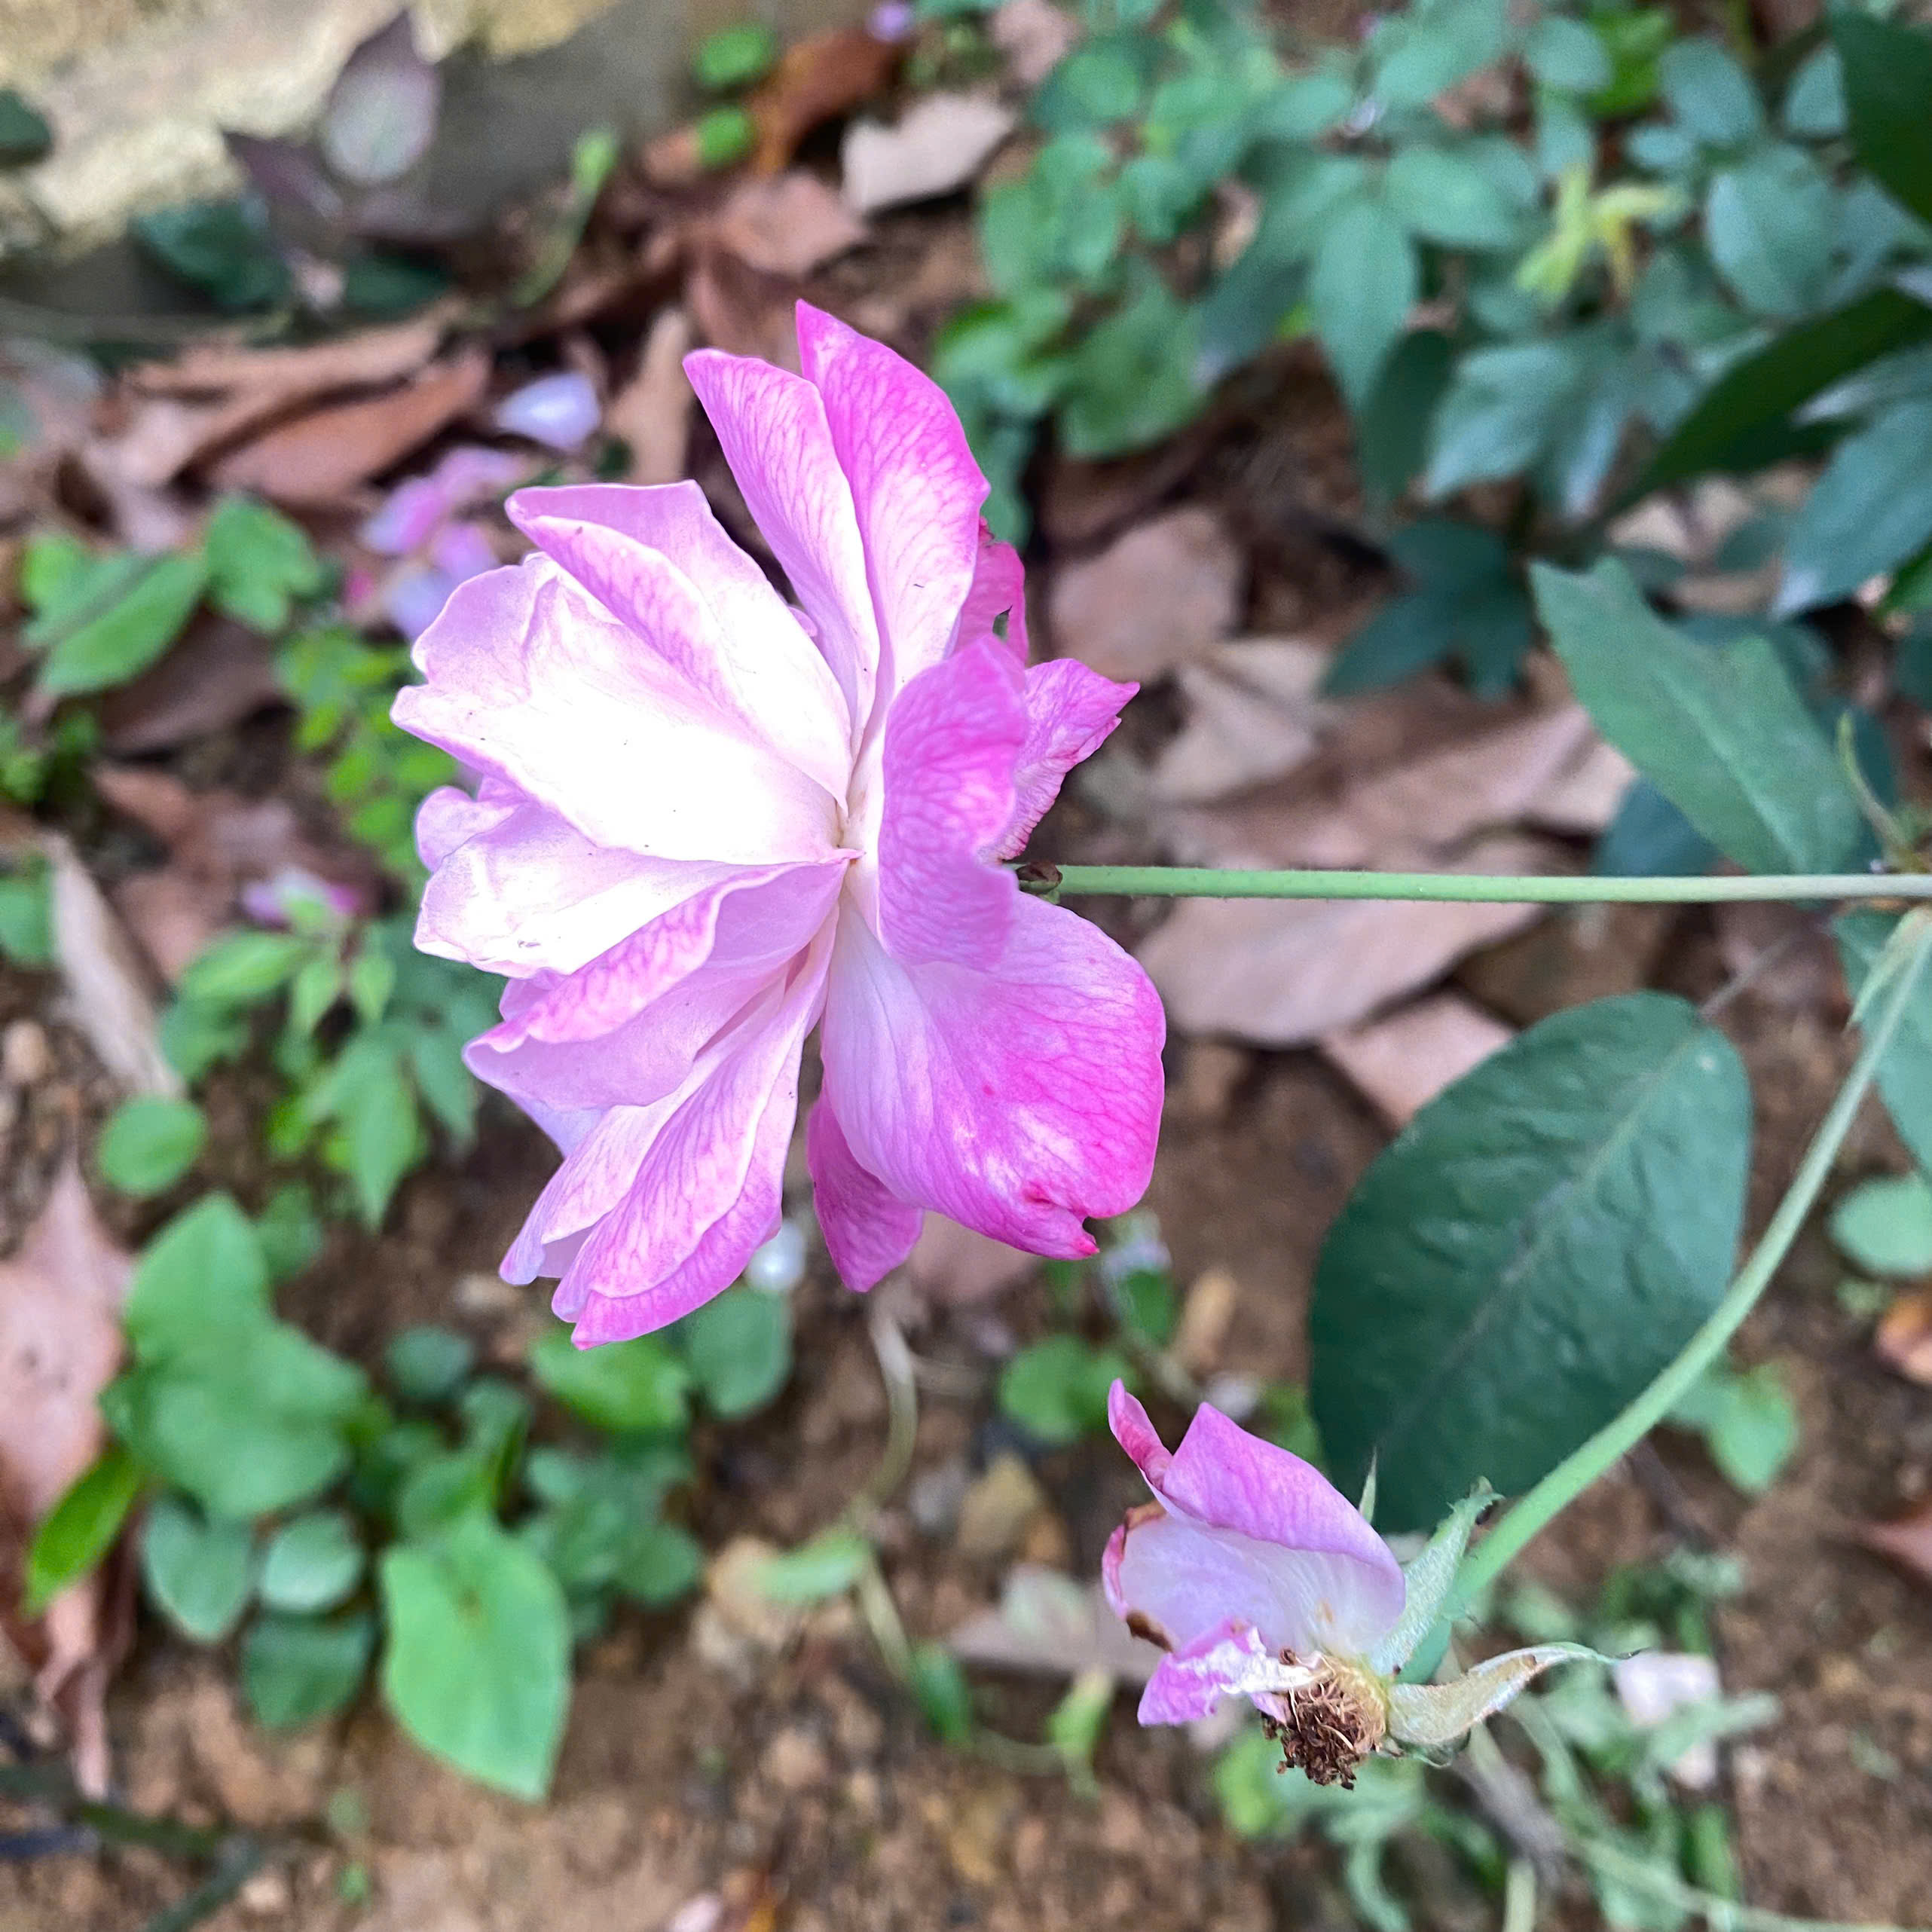hoa_hong_phan: (345, 267, 1932, 1380)
